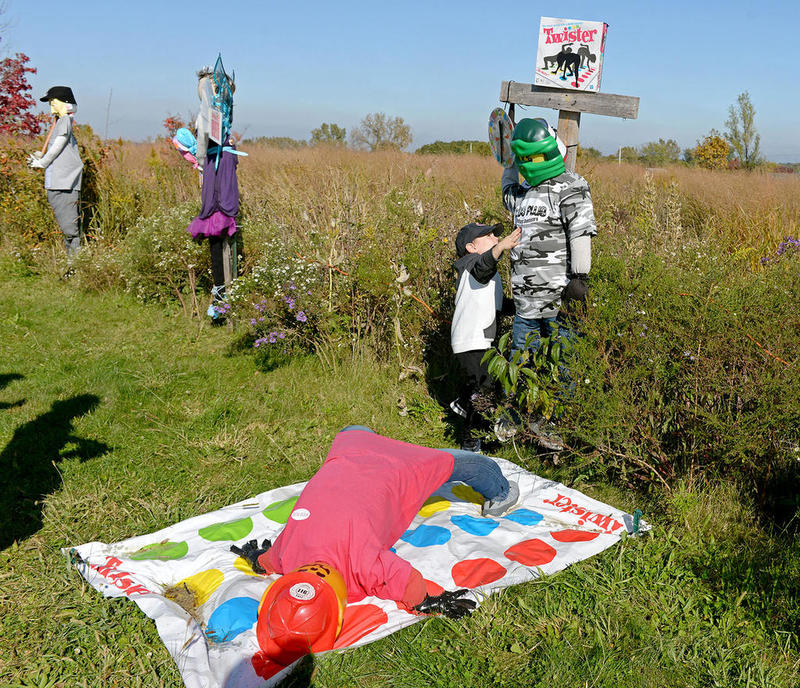person: (425, 215, 507, 427)
person-like: (237, 415, 518, 667), (496, 112, 596, 356), (162, 60, 252, 277), (26, 83, 94, 245)
